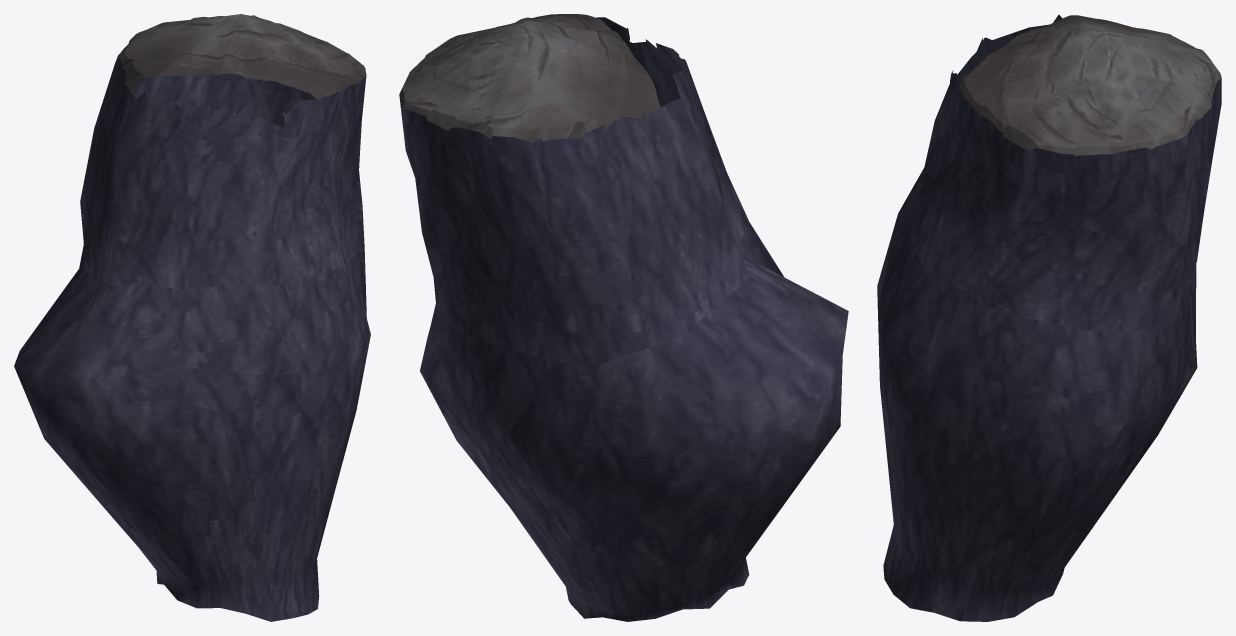
3 renders of one model, left to right at view 1: azimuth 30°, elevation 25°; view 2: azimuth 150°, elevation 25°; view 3: azimuth 270°, elevation 25°, orthographic. The views are drawn at different scales.
Visible parts, largest first — view 1: SM_Willow_01_stump_LOD0; view 2: SM_Willow_01_stump_LOD0; view 3: SM_Willow_01_stump_LOD0.
Part boxes in pixels (bbox=[...]): SM_Willow_01_stump_LOD0: bbox=[14, 14, 370, 621]; SM_Willow_01_stump_LOD0: bbox=[399, 14, 848, 621]; SM_Willow_01_stump_LOD0: bbox=[877, 14, 1221, 621].
Size of the model in its own units: 1.84 by 2.75 by 1.47.
Materials: 1 (1 with a texture image).
